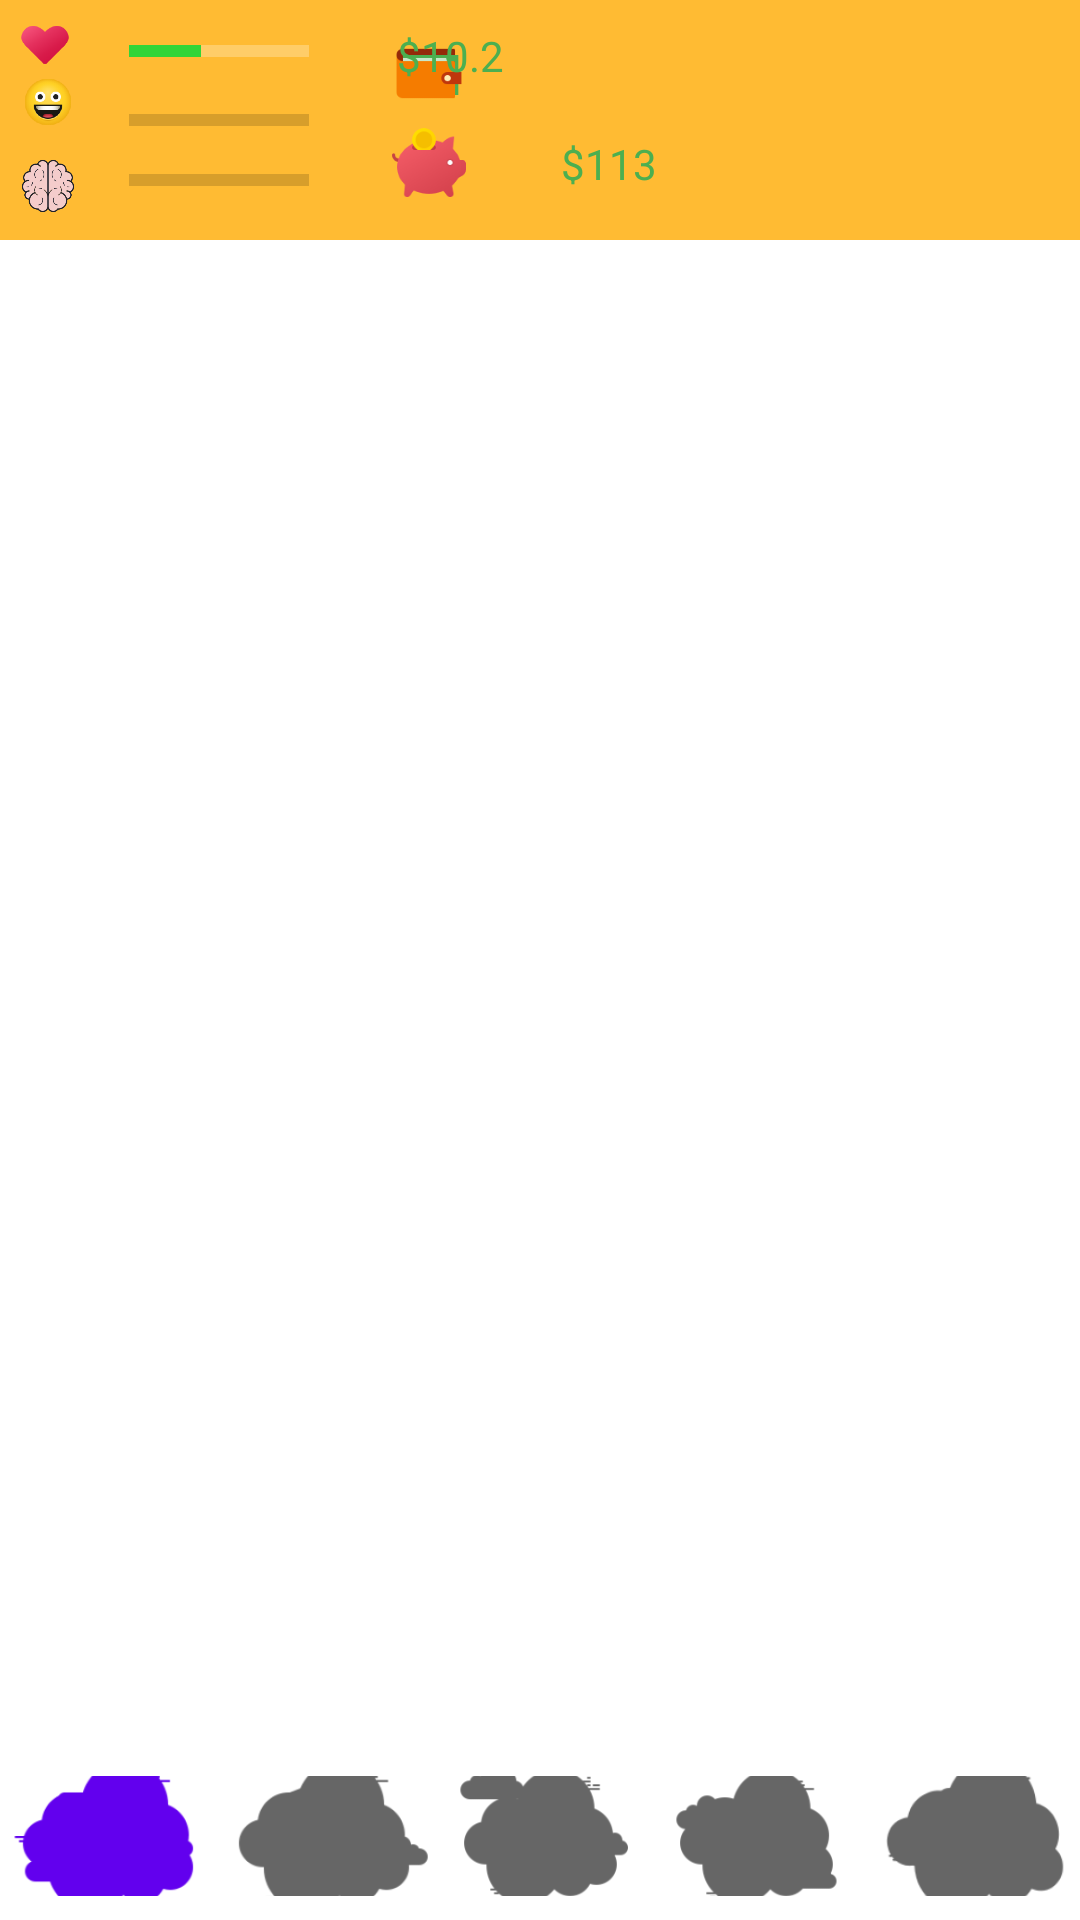

Icon click points for this 1080w x 1920h phone screenshot, format (x,y):
brain: (48,186)
happy: (48,102)
heart: (45,45)
moneybox: (429,162)
